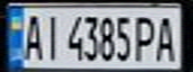3: (81, 12, 100, 62)
4: (63, 11, 84, 62)
5: (115, 12, 136, 62)
8: (97, 12, 118, 62)
A: (151, 12, 181, 62), (18, 10, 45, 61)
I: (39, 10, 63, 62)
P: (133, 12, 160, 62)
